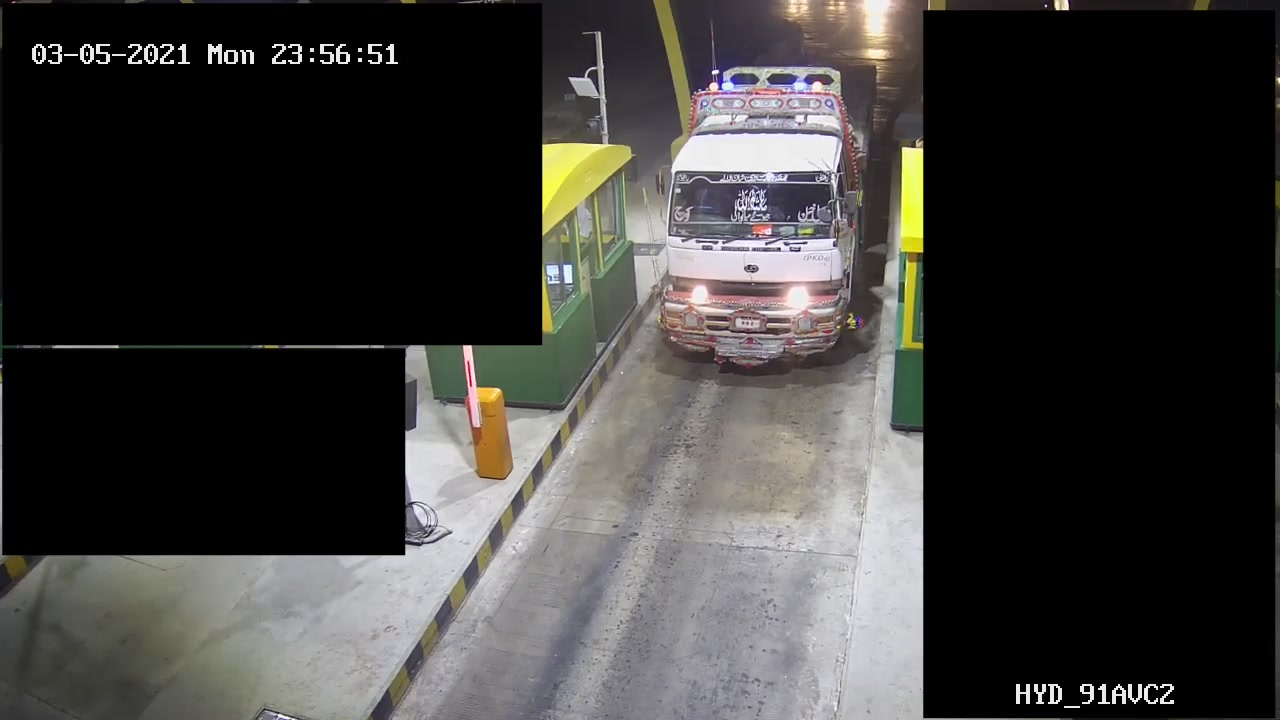F6: (650, 58, 886, 379)
